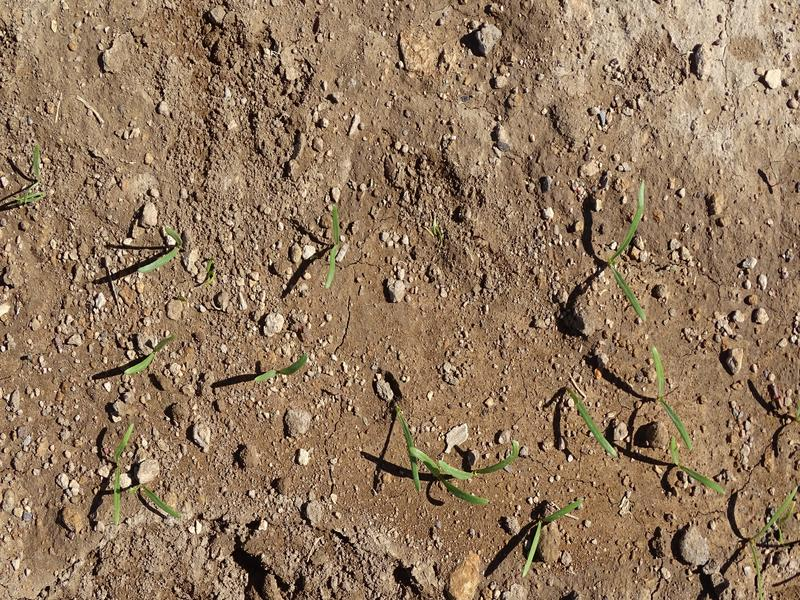Espinaca: (390, 420, 519, 508), (597, 180, 650, 322), (729, 485, 796, 597), (512, 497, 592, 575), (645, 342, 700, 453), (311, 199, 355, 292), (106, 420, 138, 529), (126, 229, 198, 275), (124, 331, 175, 381), (243, 353, 313, 386)
